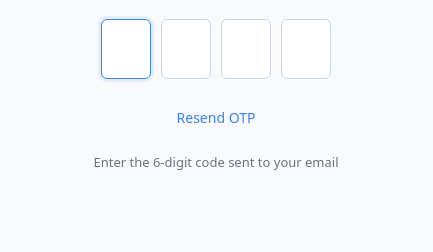
Scenario: OTPInput › fills inputs and auto-verifies success
This screenshot has width=433, height=252.
Type "1" into the 1st field.
click(126, 49); type("1")  # box [101, 19, 151, 79]
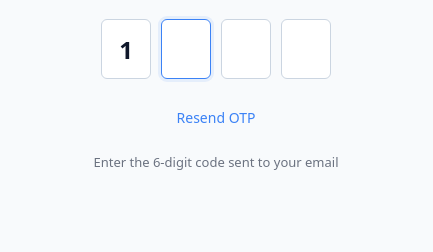
Type "2" into the 2nd field.
click(186, 49); type("2")  # box [161, 19, 211, 79]
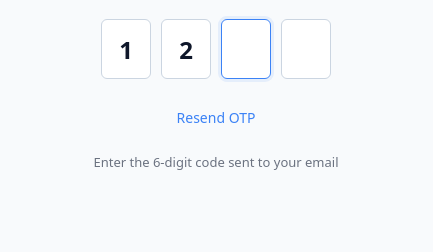
Type "3" into the 3rd field.
click(246, 49); type("3")  # box [221, 19, 271, 79]
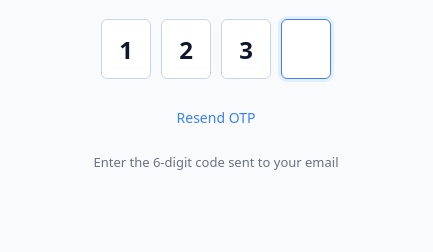
Type "4" into the 4th field.
click(306, 49); type("4")  # box [281, 19, 331, 79]
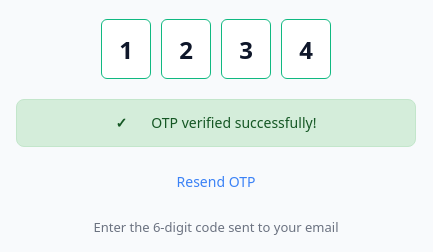
Result: the text "OTP verified successfully!" is shown at [16, 99, 416, 147]
